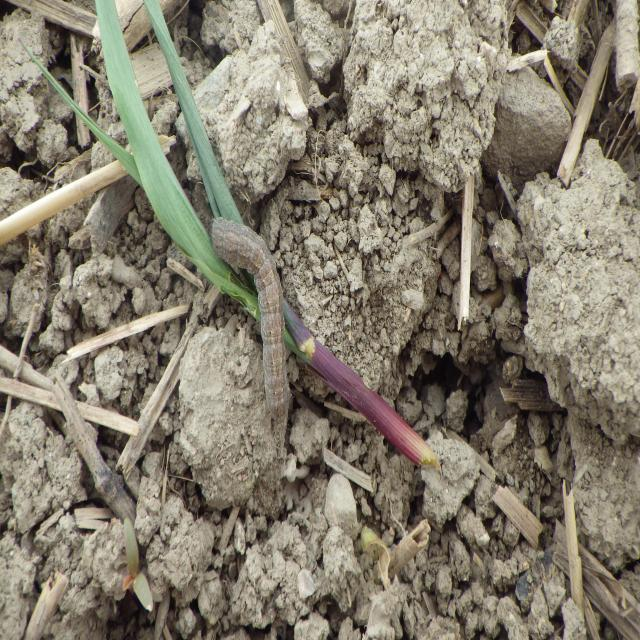black cutworm: (201, 209, 299, 416)
